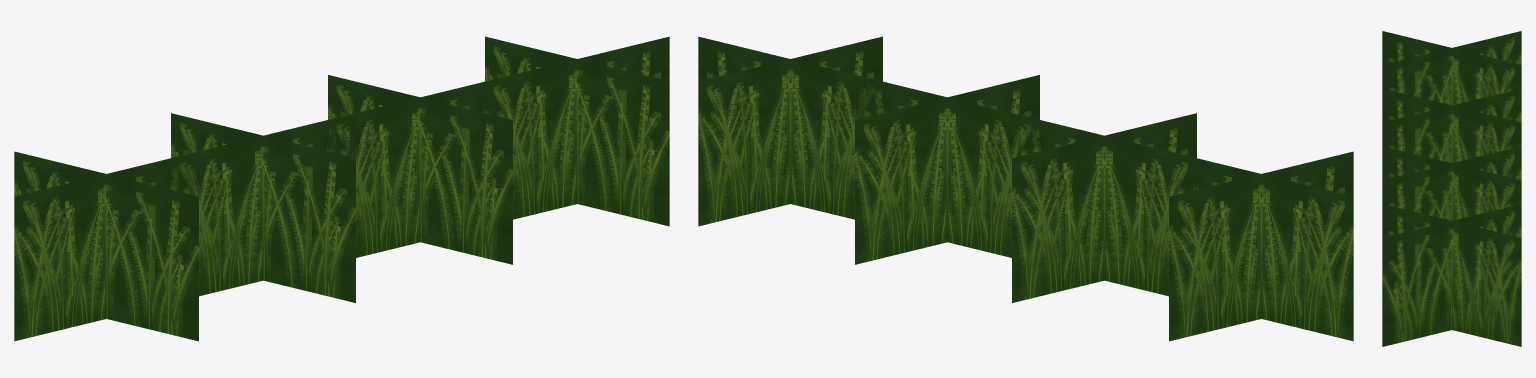
File: grass_baseline.glb
3 renders of one model, left to right at view 1: azimuth 30°, elevation 25°; view 2: azimuth 150°, elevation 25°; view 3: azimuth 270°, elevation 25°, orthographic. The views are drawn at different scales.
Parts seen in each view (by area): view 1: LegacyGrass_01, LegacyGrass_04, LegacyGrass_02, LegacyGrass_03; view 2: LegacyGrass_01, LegacyGrass_03, LegacyGrass_04, LegacyGrass_02; view 3: LegacyGrass_04, LegacyGrass_02, LegacyGrass_03, LegacyGrass_01.
Boxes of the visible parts, x1,y1,x2,y2 form: LegacyGrass_01: [14, 151, 198, 341]; LegacyGrass_04: [485, 36, 669, 226]; LegacyGrass_02: [171, 113, 355, 302]; LegacyGrass_03: [328, 75, 512, 264]; LegacyGrass_01: [1169, 151, 1353, 341]; LegacyGrass_03: [855, 75, 1039, 264]; LegacyGrass_04: [698, 36, 882, 226]; LegacyGrass_02: [1012, 113, 1196, 302]; LegacyGrass_04: [1382, 204, 1521, 346]; LegacyGrass_02: [1382, 88, 1521, 162]; LegacyGrass_03: [1382, 146, 1521, 220]; LegacyGrass_01: [1382, 31, 1521, 105].
Bounding box in the file's own units: 3.55 × 0.75 × 0.866.
Materials: 1 (1 with a texture image).
